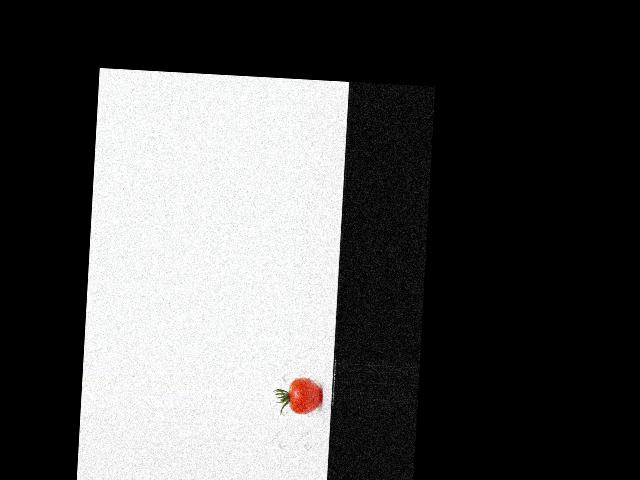tomato: (288, 378, 322, 415)
